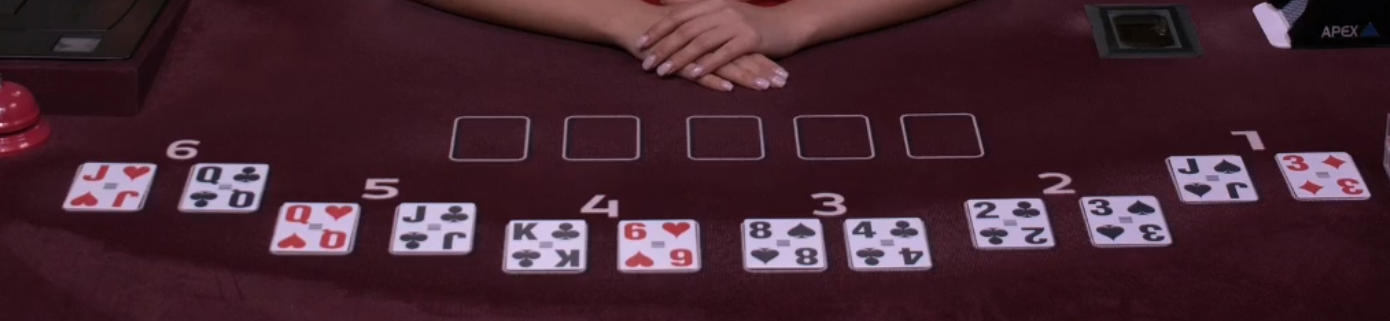2c: (955, 189, 1058, 253)
3d: (1270, 146, 1375, 207)
3s: (1077, 189, 1178, 255)
4c: (841, 212, 939, 279)
6h: (613, 212, 709, 280)
8s: (736, 213, 832, 280)
jc: (384, 198, 486, 261)
jd: (59, 158, 158, 217)
js: (1163, 151, 1262, 209)
kc: (503, 216, 595, 279)
qc: (176, 155, 271, 216)
qh: (266, 197, 368, 259)
